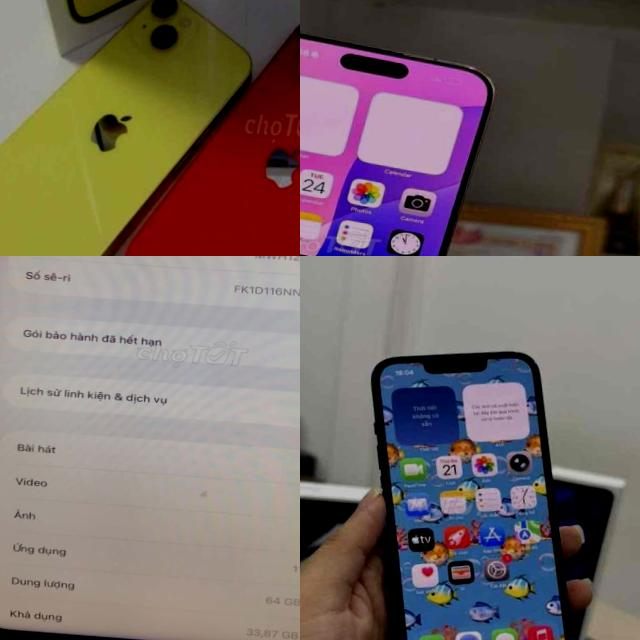gen_11: (0, 256, 300, 640)
gen_14: (352, 336, 596, 640)
gen_15: (300, 6, 503, 256)
